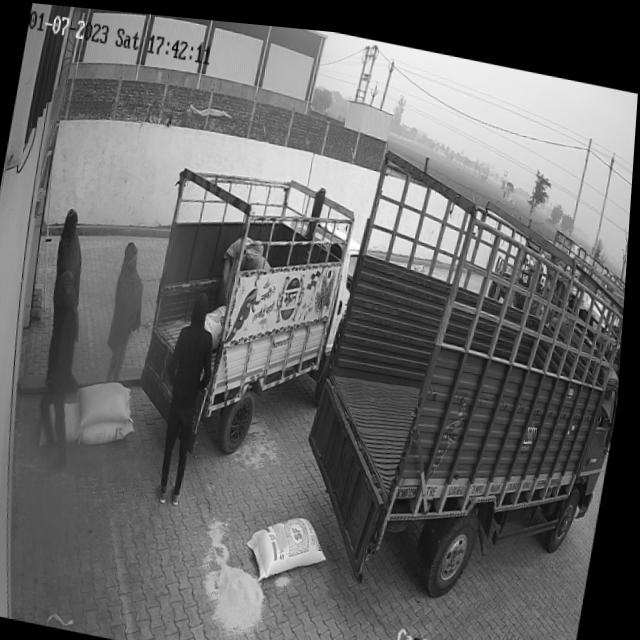sack: (247, 500, 338, 586), (77, 371, 139, 432), (85, 409, 140, 449)
